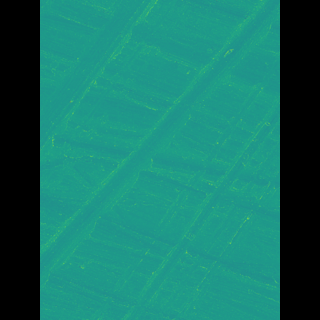Loch: (70, 0, 250, 291), (128, 91, 250, 319), (69, 0, 156, 153)
